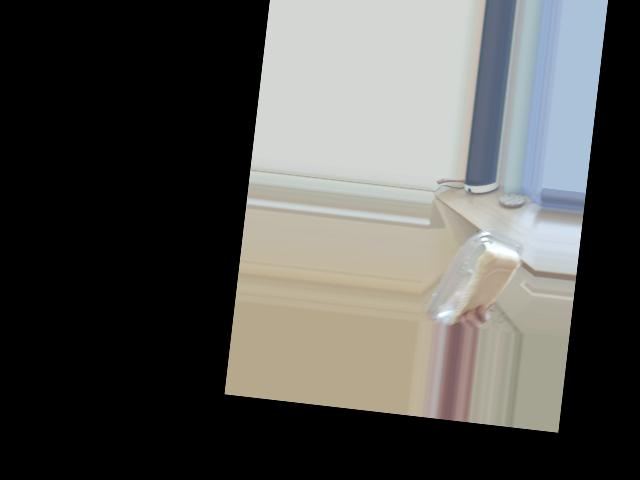cheese: (443, 235, 512, 296)
